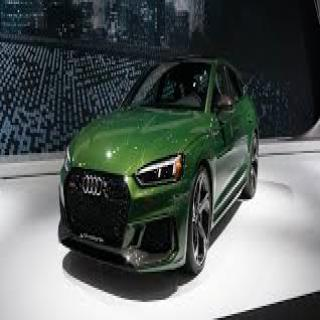Normal_vehicle: (57, 59, 260, 277)
